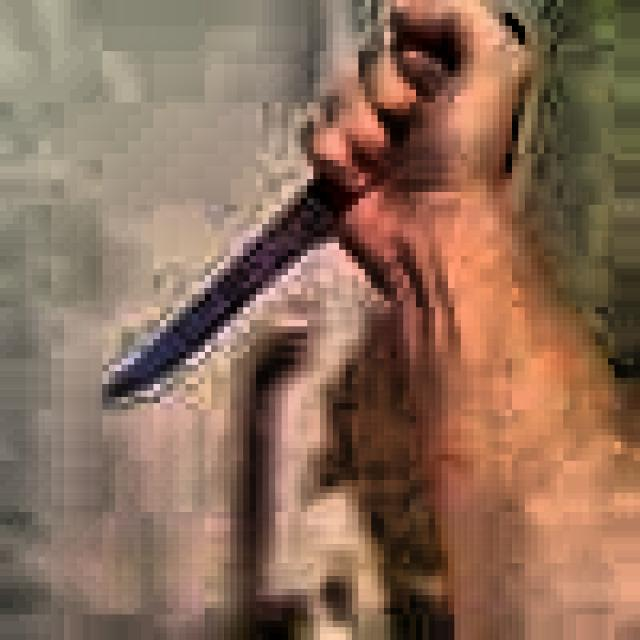knife: (103, 6, 526, 400)
